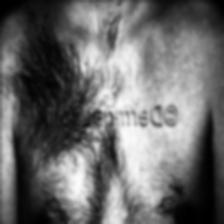Potentially Malignant Skin Tumors: (11, 45, 102, 105), (17, 130, 72, 166)
